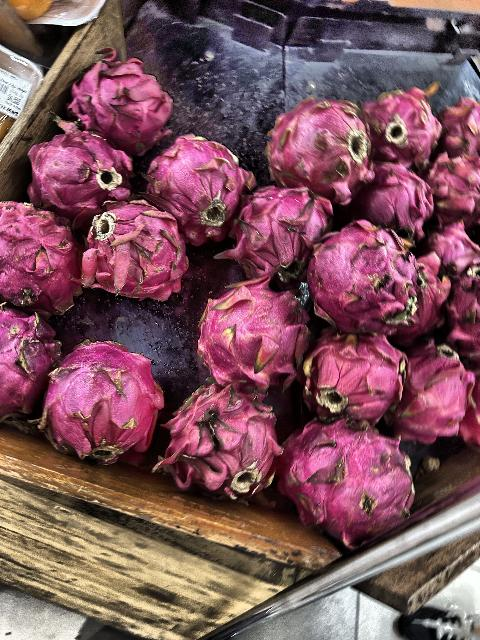buah-naga-matang: (276, 416, 418, 546), (306, 220, 422, 344), (169, 383, 286, 505), (54, 335, 162, 467), (258, 90, 374, 202), (57, 46, 173, 150), (200, 281, 310, 389), (141, 135, 255, 233), (82, 194, 186, 300), (299, 328, 407, 427), (15, 132, 140, 215), (0, 198, 84, 314), (230, 188, 329, 278), (398, 334, 476, 444), (0, 300, 62, 426), (361, 83, 441, 171), (354, 154, 434, 238), (430, 152, 480, 226)
